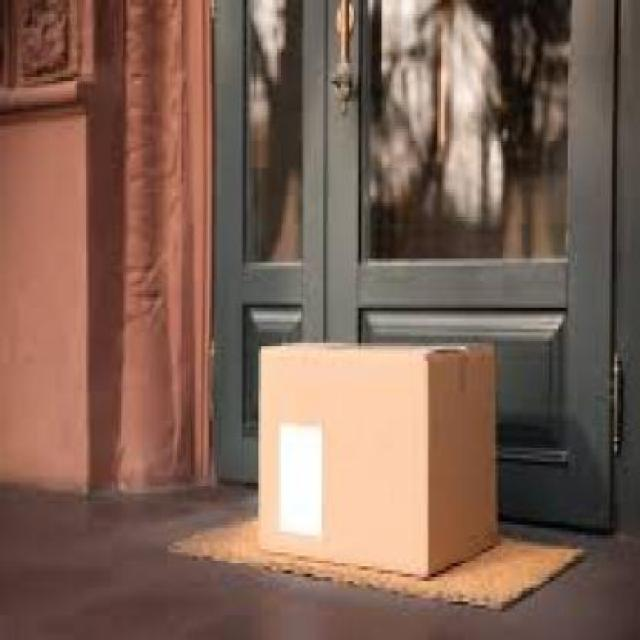cardboxes: (258, 336, 497, 584)
